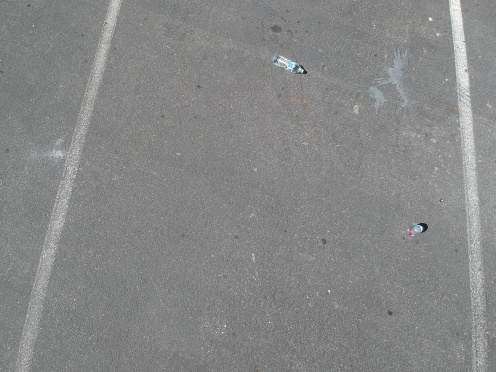bottle: (268, 51, 306, 77)
can: (405, 219, 426, 241)
